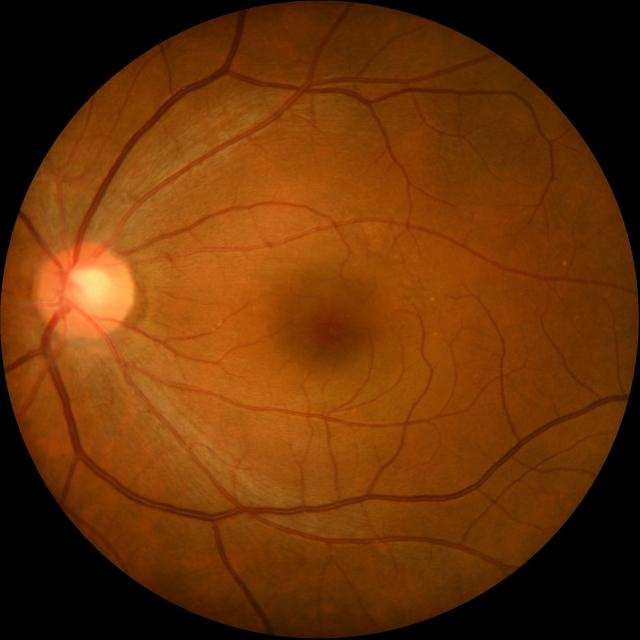OC: (64, 265, 110, 315)
OD: (36, 242, 132, 338)
